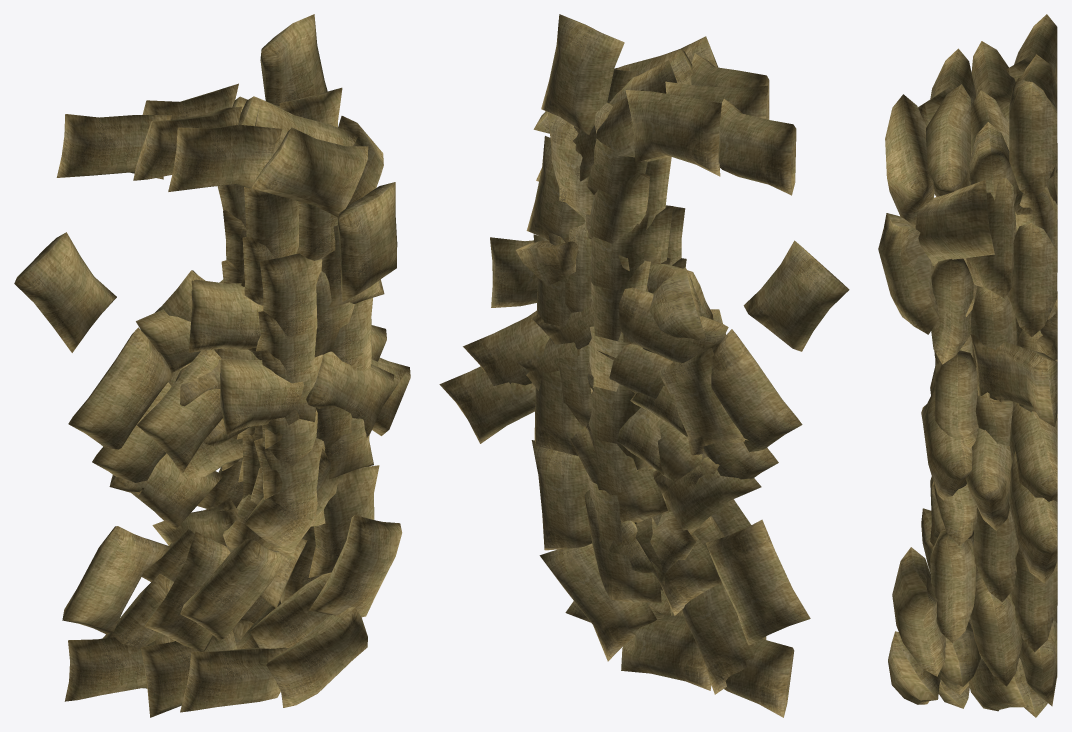
Rendered from sandbags_fort1.obj.
3 renders of one model, left to right at view 1: azimuth 30°, elevation 25°; view 2: azimuth 150°, elevation 25°; view 3: azimuth 270°, elevation 25°, orthographic. The views are drawn at different scales.
Parts seen in each view (by area): view 1: caenfort1, wedge1, corner1_destroyed, corner1, line2, line1_destroyed, line1; view 2: caenfort1, corner1_destroyed, wedge1, line1_destroyed, line2, corner1, line1; view 3: caenfort1, wedge1, corner1, corner1_destroyed, line2.
Part boxes in pixels (left/top/right/bottom): caenfort1: left=56, top=83, right=402, bottom=717; wedge1: left=102, top=14, right=357, bottom=651; corner1_destroyed: left=62, top=279, right=386, bottom=634; corner1: left=92, top=348, right=410, bottom=494; line2: left=222, top=186, right=325, bottom=551; line1_destroyed: left=14, top=232, right=242, bottom=538; line1: left=152, top=184, right=317, bottom=546; caenfort1: left=526, top=36, right=796, bottom=717; corner1_destroyed: left=463, top=240, right=810, bottom=645; wedge1: left=490, top=14, right=759, bottom=694; line1_destroyed: left=586, top=181, right=849, bottom=542; line2: left=584, top=102, right=685, bottom=602; corner1: left=439, top=309, right=778, bottom=479; line1: left=586, top=173, right=697, bottom=584; caenfort1: left=878, top=14, right=1057, bottom=717; wedge1: left=921, top=78, right=1057, bottom=572; corner1: left=921, top=366, right=1057, bottom=583; corner1_destroyed: left=1009, top=294, right=1057, bottom=503; line2: left=930, top=169, right=1057, bottom=622.
Bounding box in the file's own units: 176 × 269 × 65.58.
